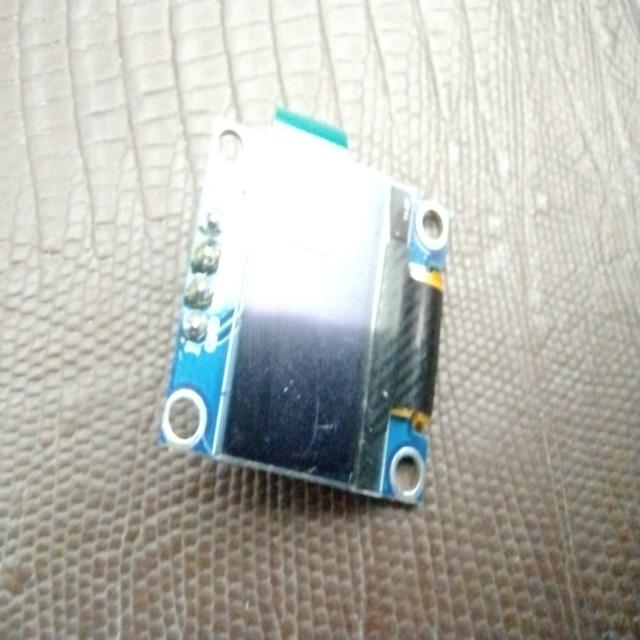oled: (157, 104, 446, 518)
